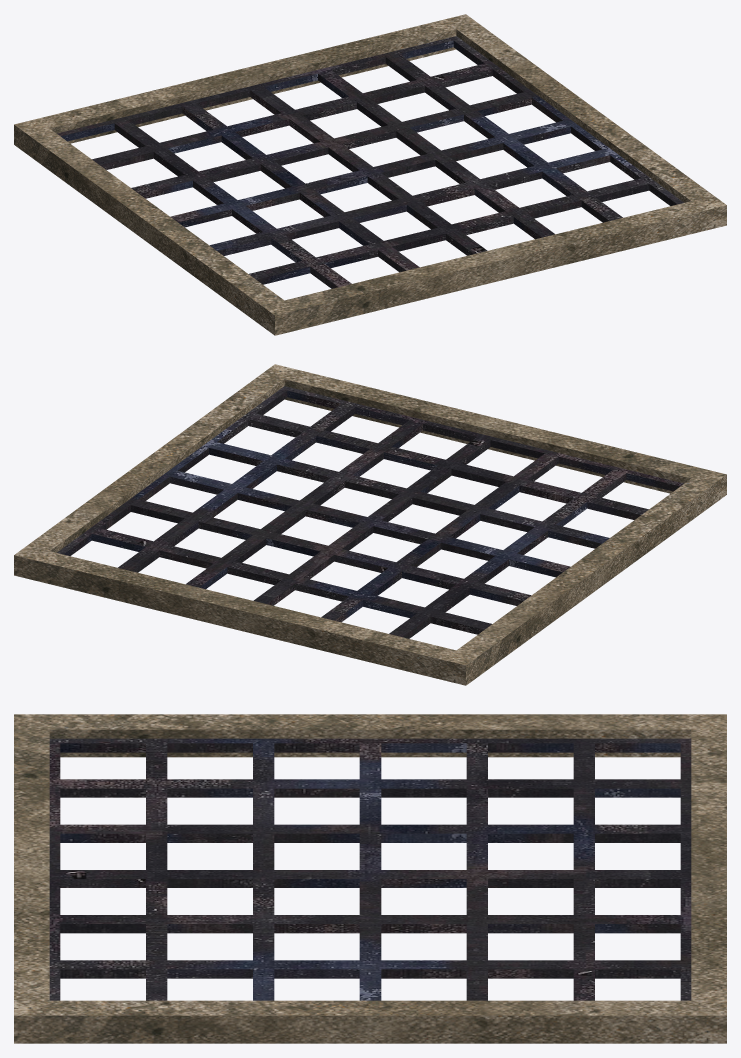
Rendered from плита дырочная.fbx.
3 renders of one model, top to bottom at view 1: azimuth 30°, elevation 25°; view 2: azimuth 150°, elevation 25°; view 3: azimuth 270°, elevation 25°, orthographic. The views are drawn at different scales.
Parts seen in each view (by area): view 1: Куб; view 2: Куб; view 3: Куб.
Part boxes in pixels (x1=…): Куб: x1=14, y1=14, x2=726, y2=335; Куб: x1=14, y1=364, x2=726, y2=685; Куб: x1=14, y1=714, x2=726, y2=1043.
Bounding box in the file's own units: 700 × 30 × 700.
